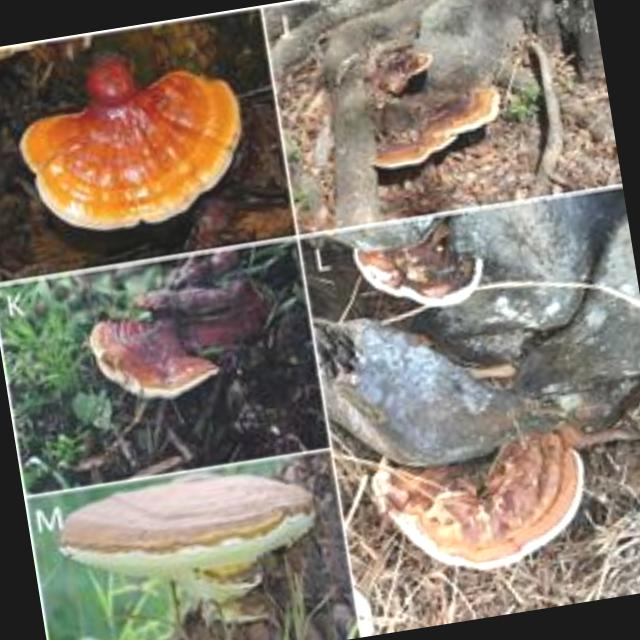ganoderma: (11, 61, 259, 245), (51, 454, 330, 604), (367, 421, 606, 591), (86, 304, 224, 414), (357, 81, 512, 178), (353, 226, 495, 323), (368, 44, 441, 96)
